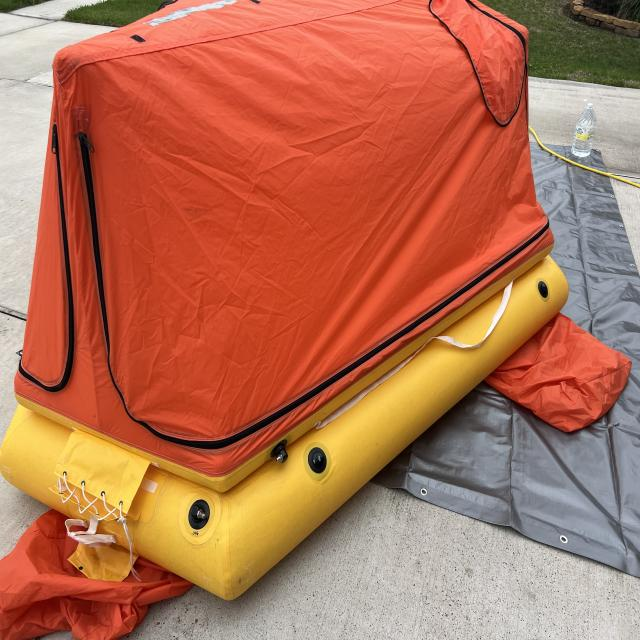Multi-person_life_raft: (0, 1, 632, 639)
